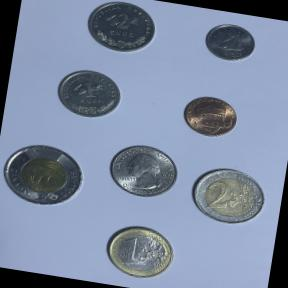coin: (0, 135, 91, 216), (182, 158, 274, 232), (98, 218, 183, 285), (102, 136, 184, 203), (78, 0, 163, 60), (176, 88, 243, 142), (198, 18, 262, 66)
